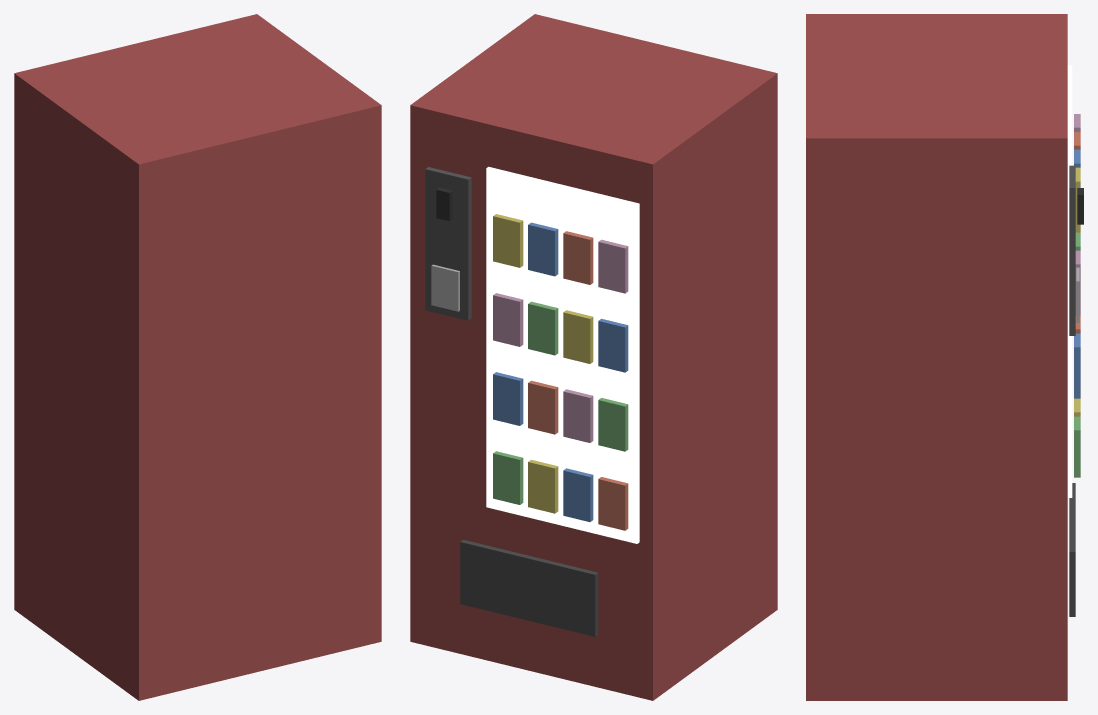
Rendered from vending_machine.glb.
The picture shows the model from 3 angles, left to right: view 1: azimuth 30°, elevation 25°; view 2: azimuth 150°, elevation 25°; view 3: azimuth 270°, elevation 25°; orthographic projection. The views are drawn at different scales.
Visible parts, largest first — view 1: Vending_machine; view 2: Vending_machine; view 3: Vending_machine.
Part boxes in pixels (x1=…): Vending_machine: x1=14, y1=14, x2=381, y2=700; Vending_machine: x1=410, y1=14, x2=777, y2=700; Vending_machine: x1=806, y1=14, x2=1083, y2=700.
Size of the model in its own units: 0.9 by 1.9 by 0.85.
